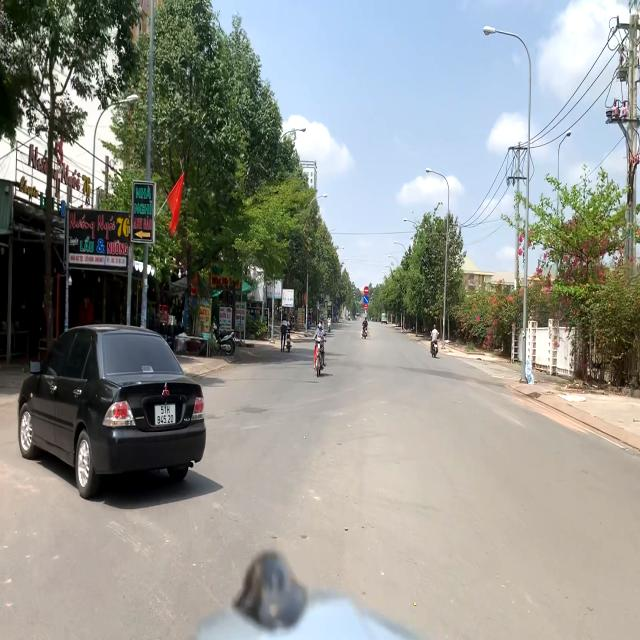P.102: (364, 286, 369, 295)
R.302a: (364, 296, 368, 304)
